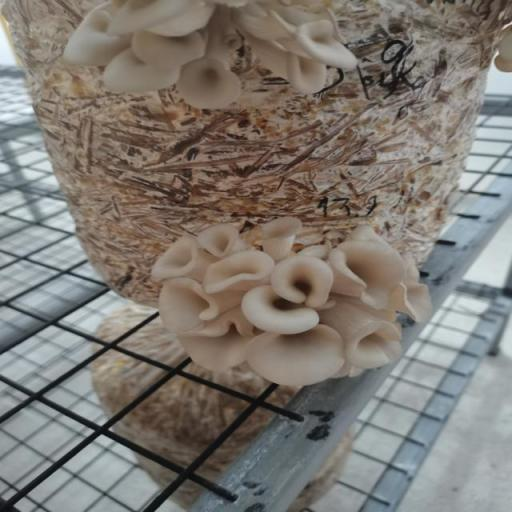White Oyster Mushroom: (150, 204, 439, 394), (47, 0, 350, 103)
